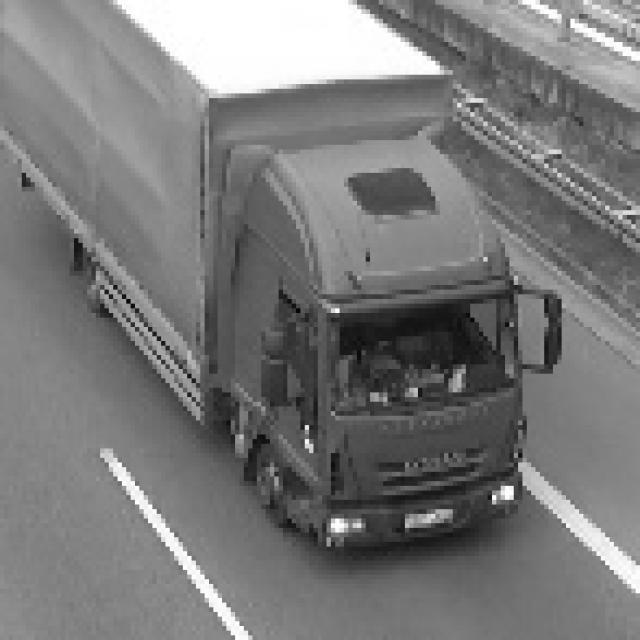truck: (0, 0, 557, 556)
